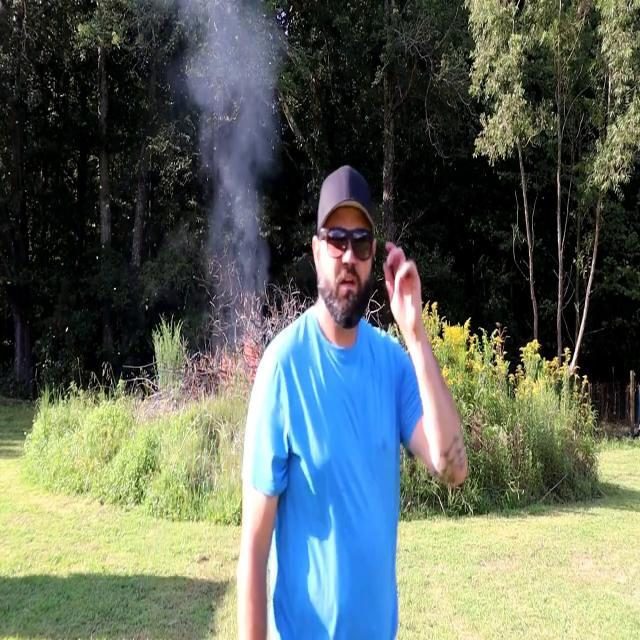Smoke: (182, 2, 286, 328)
